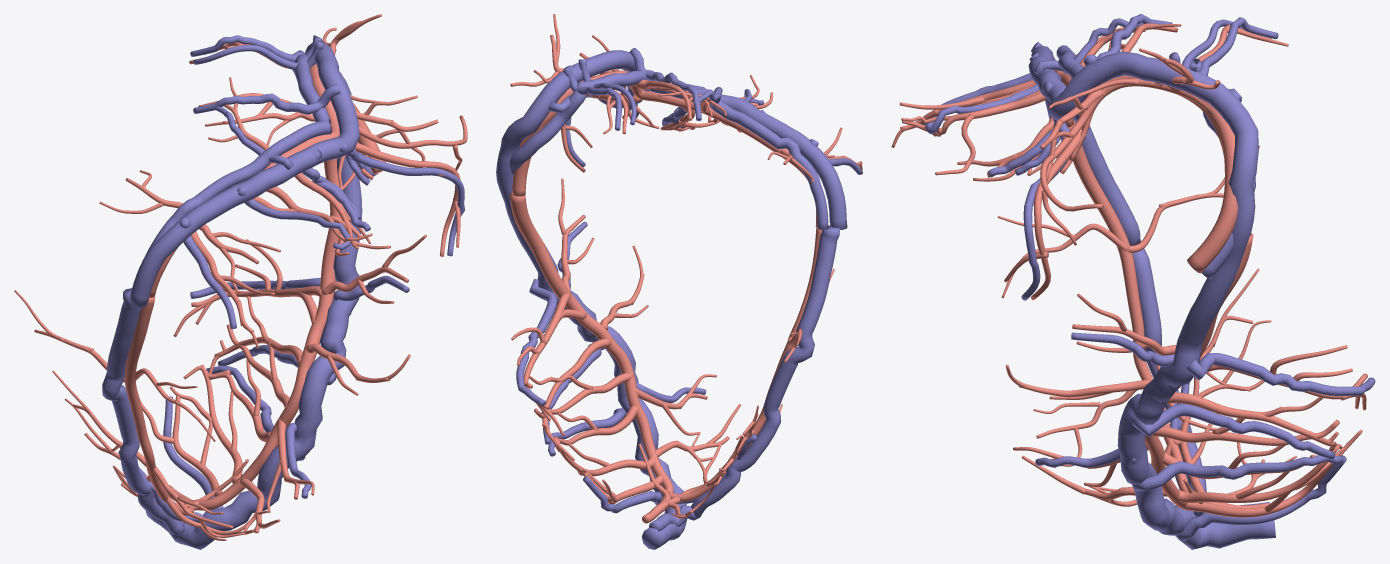
Rendered from vessels_8.glb.
3 renders of one model, left to right at view 1: azimuth 30°, elevation 25°; view 2: azimuth 150°, elevation 25°; view 3: azimuth 270°, elevation 25°, orthographic. The views are drawn at different scales.
Visible parts, largest first — view 1: Renderer Node; view 2: Renderer Node; view 3: Renderer Node.
Part boxes in pixels (bbox=[...]): Renderer Node: bbox=[14, 14, 467, 549]; Renderer Node: bbox=[496, 14, 862, 549]; Renderer Node: bbox=[891, 14, 1375, 549].
Bounding box in the file's own units: 91.95 × 119 × 88.59.
